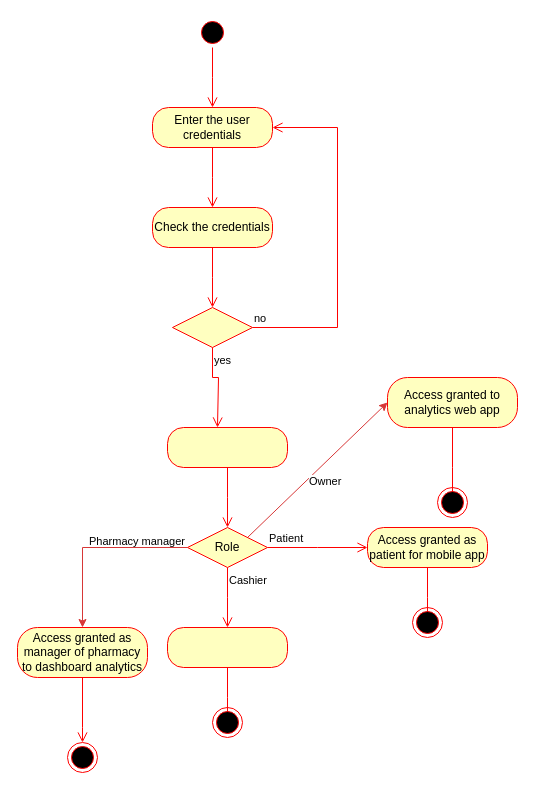
This 535x790 diagram has some shape labels left out. Here are the shapes that lost their labels. From the top down, the centre of each, then its label:
At (x=212, y=327): "Valid".
At (x=227, y=447): "Check the role".
At (x=227, y=647): "Access granted as cashier for pos system".
